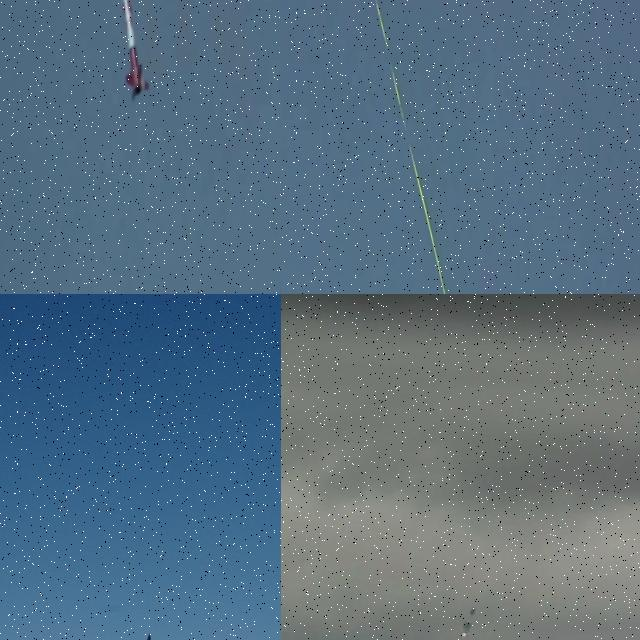Rocket: (118, 0, 151, 103), (459, 606, 478, 633)
